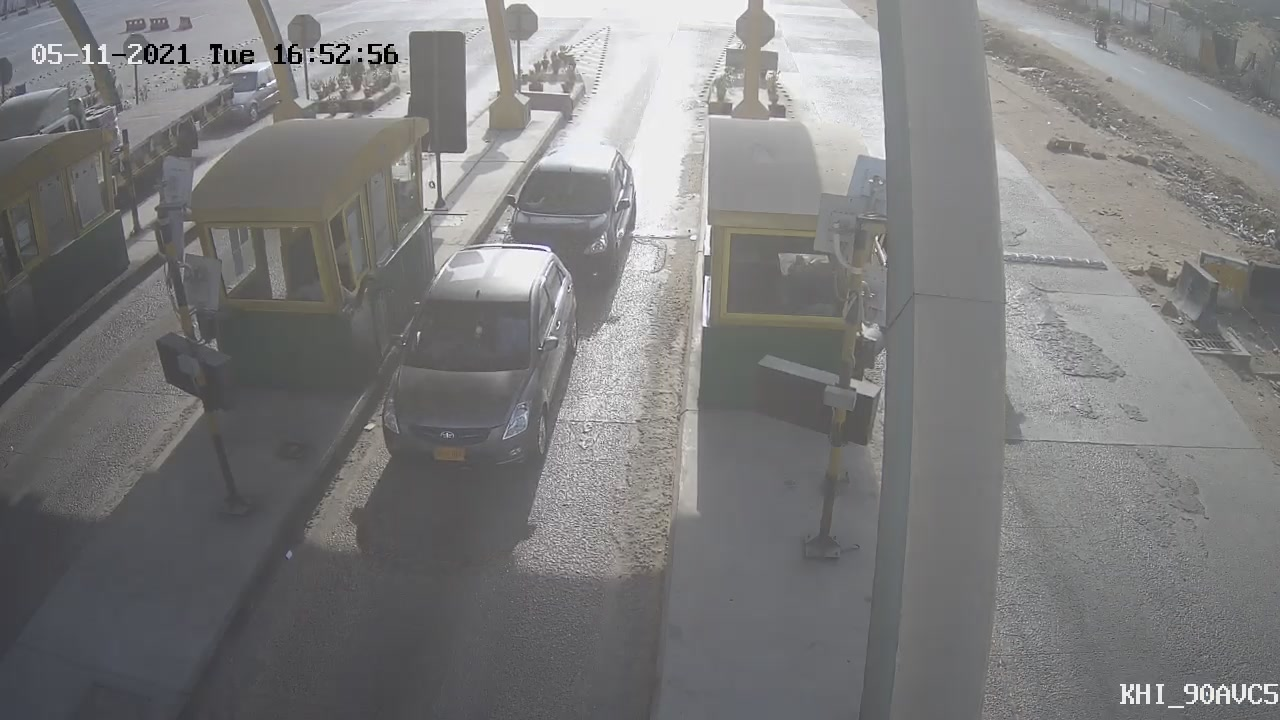F1: (370, 227, 595, 487), (483, 126, 650, 303)
